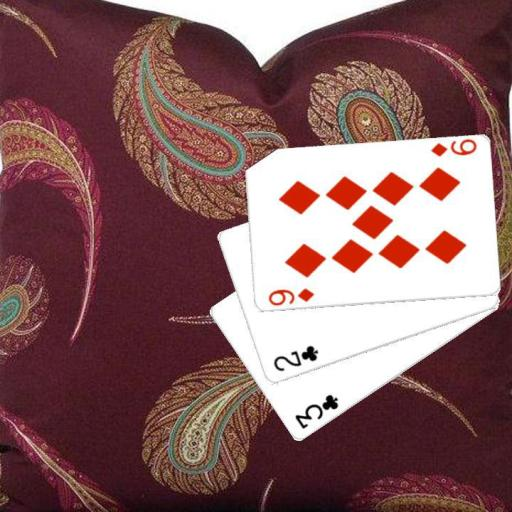2C: (270, 342, 320, 373)
3C: (291, 391, 340, 431)
9D: (265, 285, 315, 307), (427, 138, 478, 159)
